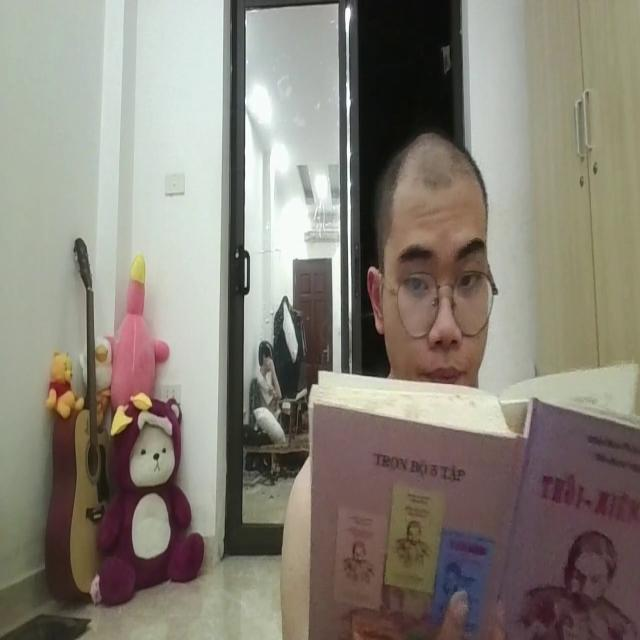book: (311, 333, 640, 640)
extra_person: (256, 320, 285, 432)
student: (362, 121, 496, 401)
